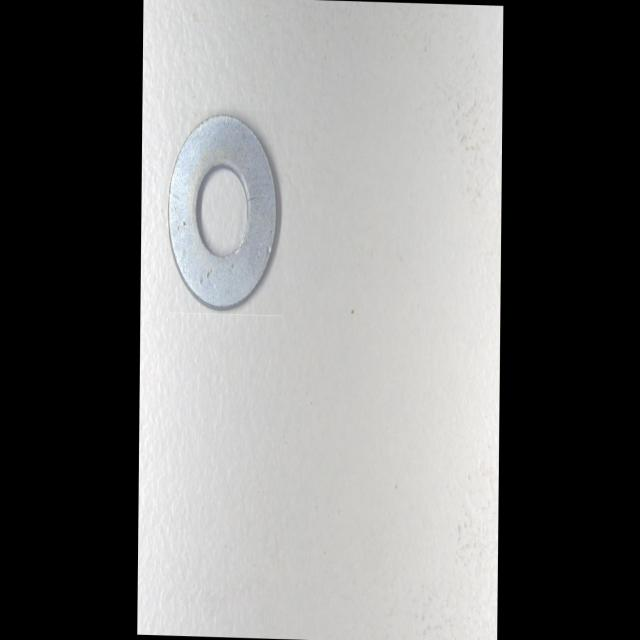washer: (169, 109, 282, 314)
